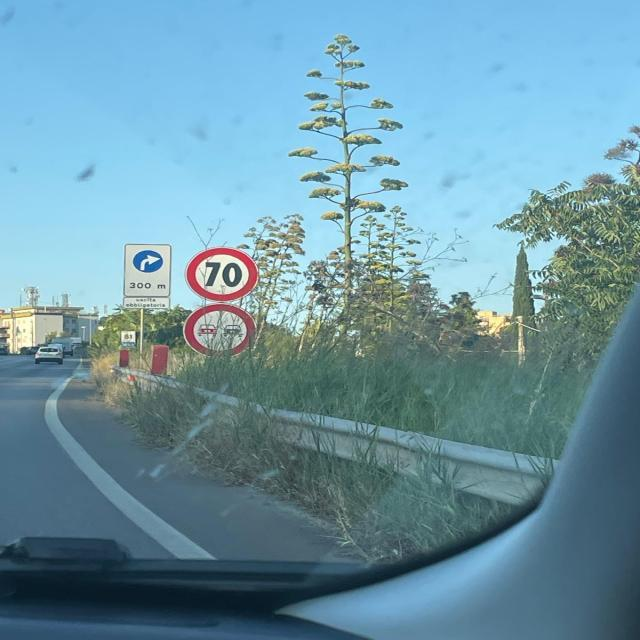forb_overtake: (184, 303, 257, 358)
forb_speed_over_70: (184, 246, 261, 303)
